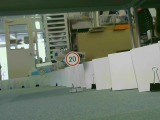speed_20: (63, 51, 82, 67)
